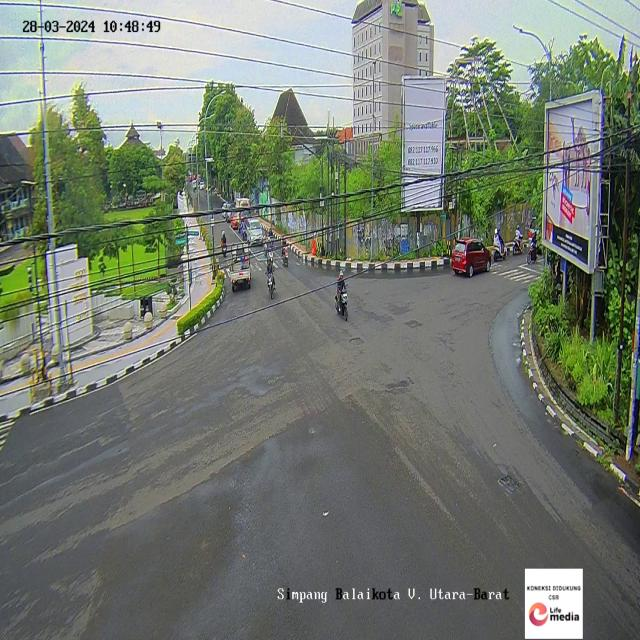car: (451, 238, 491, 278), (246, 218, 264, 245)
motorcycle: (335, 268, 349, 319), (493, 228, 505, 263), (526, 232, 538, 266), (266, 256, 276, 296), (513, 225, 522, 256), (282, 233, 289, 266), (266, 238, 274, 266), (220, 228, 228, 256)
truck: (227, 245, 252, 288)
